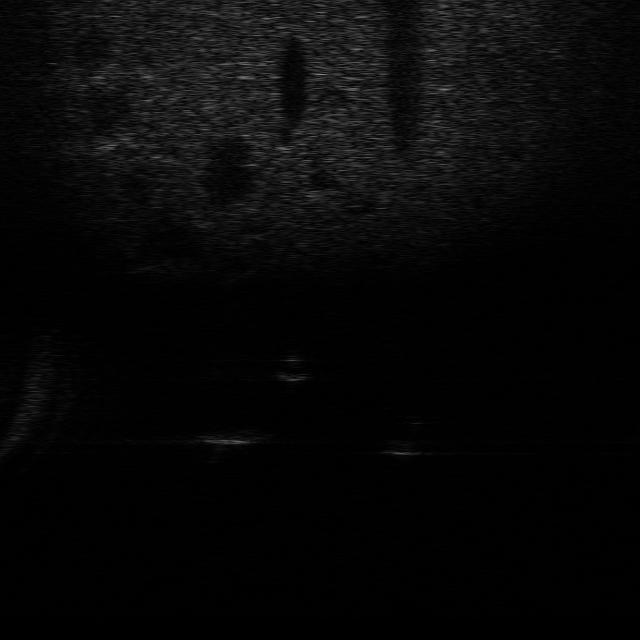ball: (268, 351, 316, 388)
square cage: (198, 426, 272, 461)
tyre: (371, 412, 431, 462)
